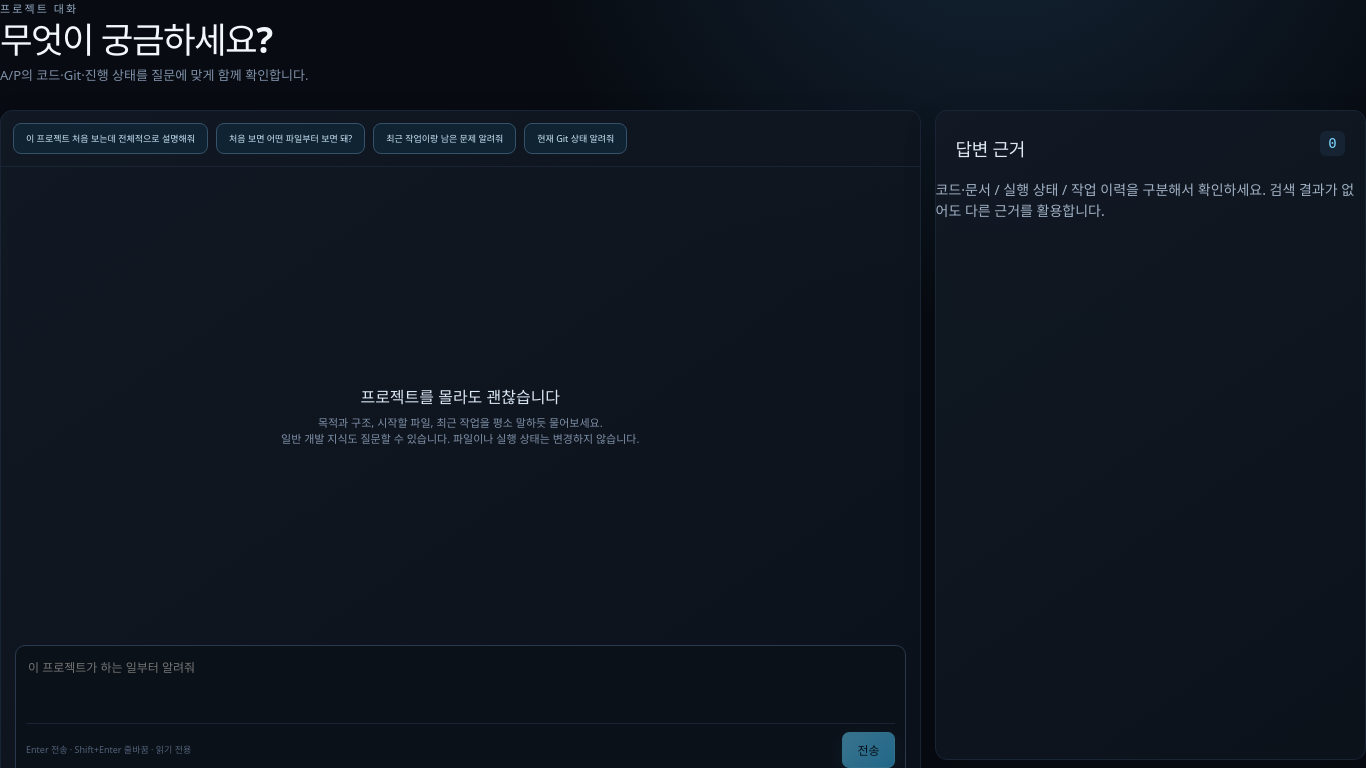
it: sends via unified endpoint on Enter and displays a tool answer with zero RAG sources
Type "Git 상태" into the text box named "채팅 질문" at (460, 687), box [26, 656, 894, 718]
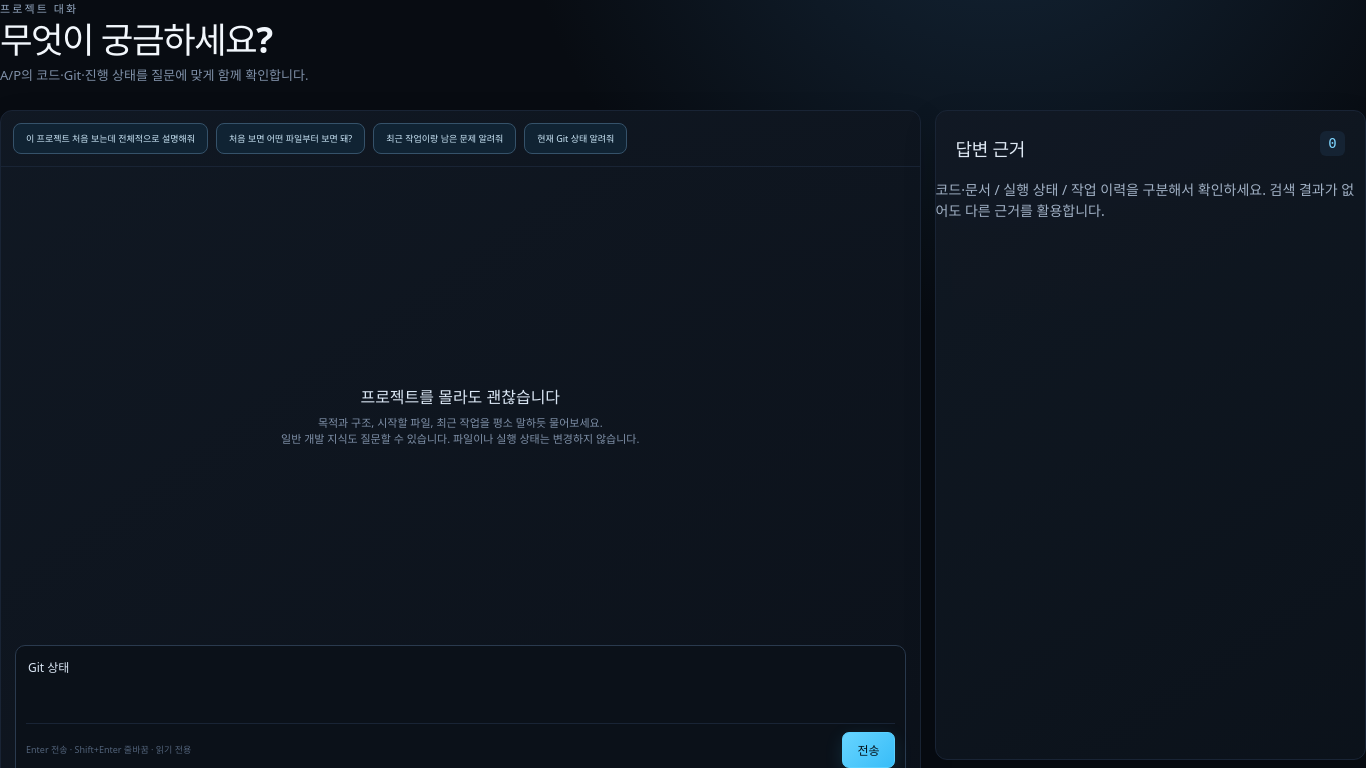
Press Enter in the text box named "채팅 질문", box [26, 656, 894, 718]
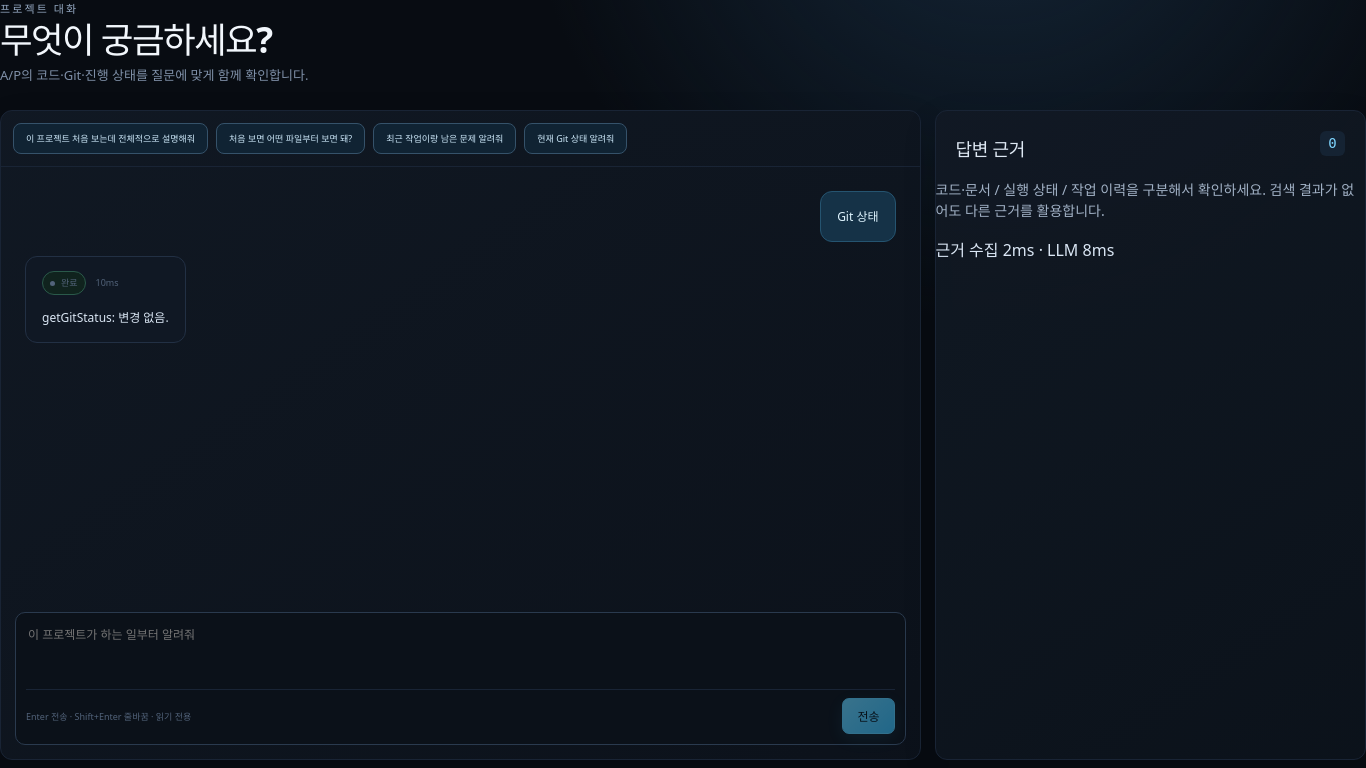
Now the text "getGitStatus: 변경 없음." is shown, box [42, 307, 169, 328]
